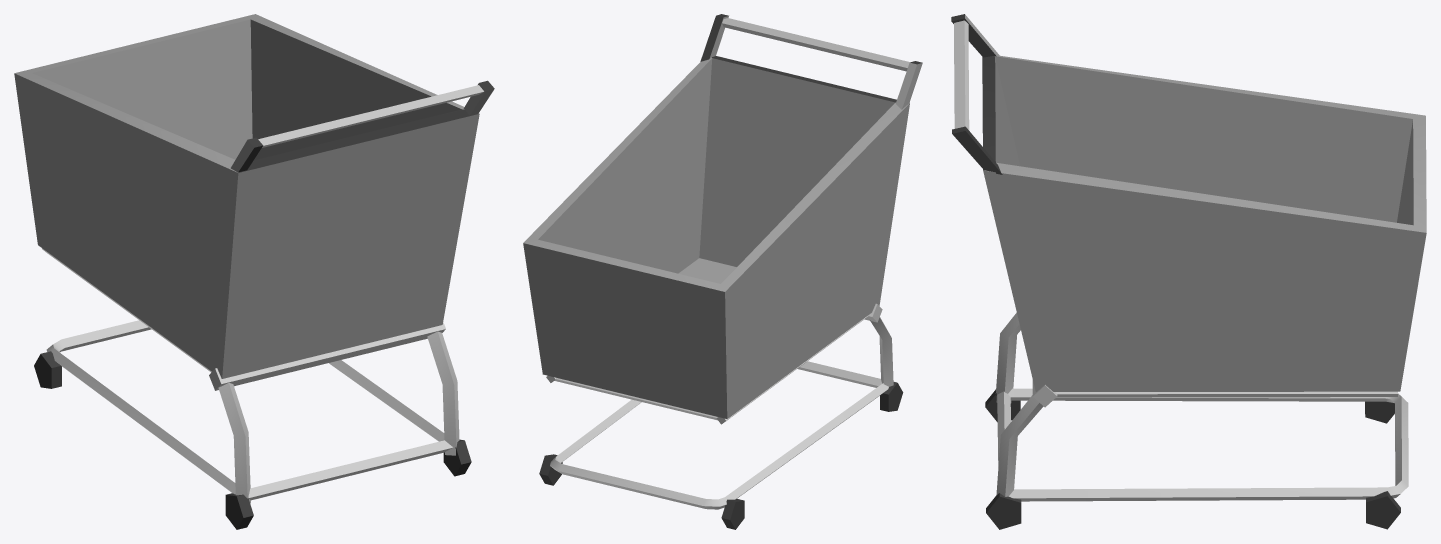
File: troli.fbx
The picture shows the model from 3 angles, left to right: view 1: azimuth 30°, elevation 25°; view 2: azimuth 150°, elevation 25°; view 3: azimuth 270°, elevation 25°; orthographic projection. The views are drawn at different scales.
Parts seen in each view (by area): view 1: troli.042; view 2: troli.042; view 3: troli.042.
Part boxes in pixels (x1,y1,x2,y2): troli.042: [14, 14, 494, 529]; troli.042: [523, 14, 922, 529]; troli.042: [951, 14, 1426, 529].
Bounding box in the file's own units: 98.09 × 156 × 167.
